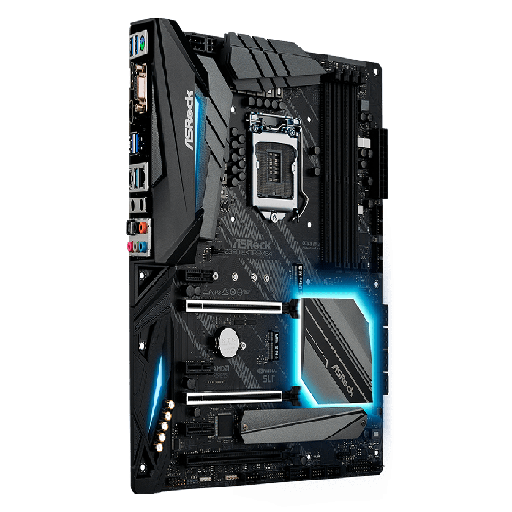CPU: (249, 112, 311, 223)
GPU: (186, 301, 283, 315), (186, 392, 283, 404)
MOTHERBOARD: (128, 19, 390, 493)
RAM: (320, 76, 360, 275)
SSD: (288, 264, 305, 299), (265, 331, 281, 364)
